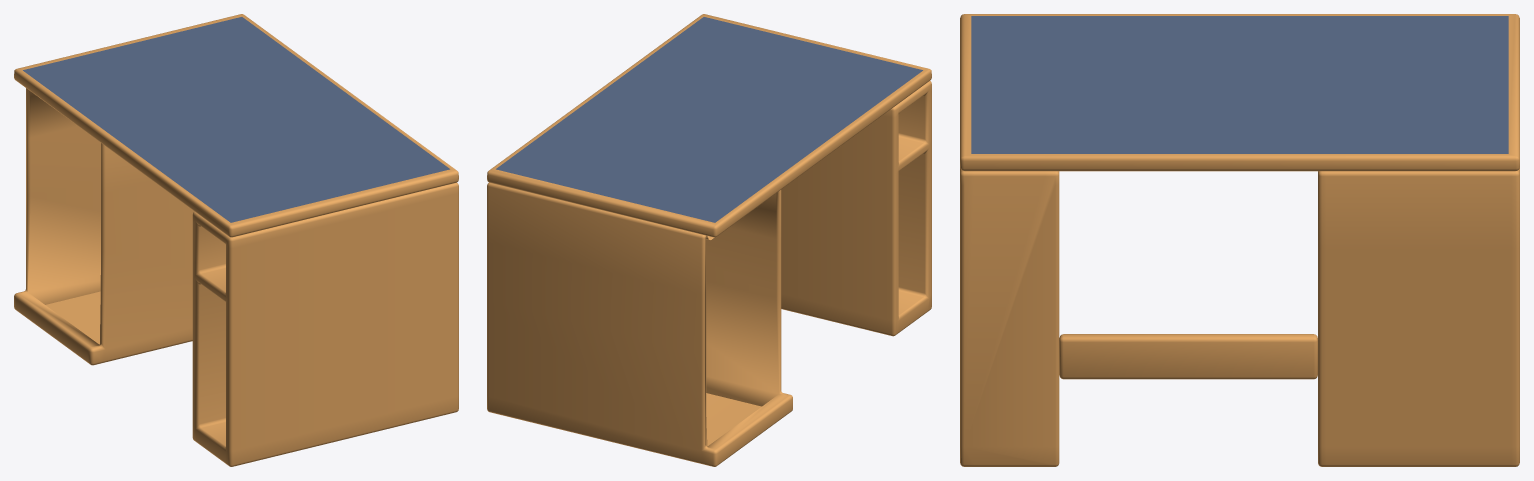
Rendered from toronto-desk.fbx.
3 views of the same model, side by side, from view 1: azimuth 30°, elevation 25°; view 2: azimuth 150°, elevation 25°; view 3: azimuth 270°, elevation 25° (orthographic). The views are drawn at different scales.
Parts seen in each view (by area): view 1: toronto-desk; view 2: toronto-desk; view 3: toronto-desk.
Part boxes in pixels (x1,y1,x2,y2): toronto-desk: (14,14,458,466); toronto-desk: (487,14,931,466); toronto-desk: (960,14,1519,466).
Bounding box in the file's own units: 448 × 449 × 732.
